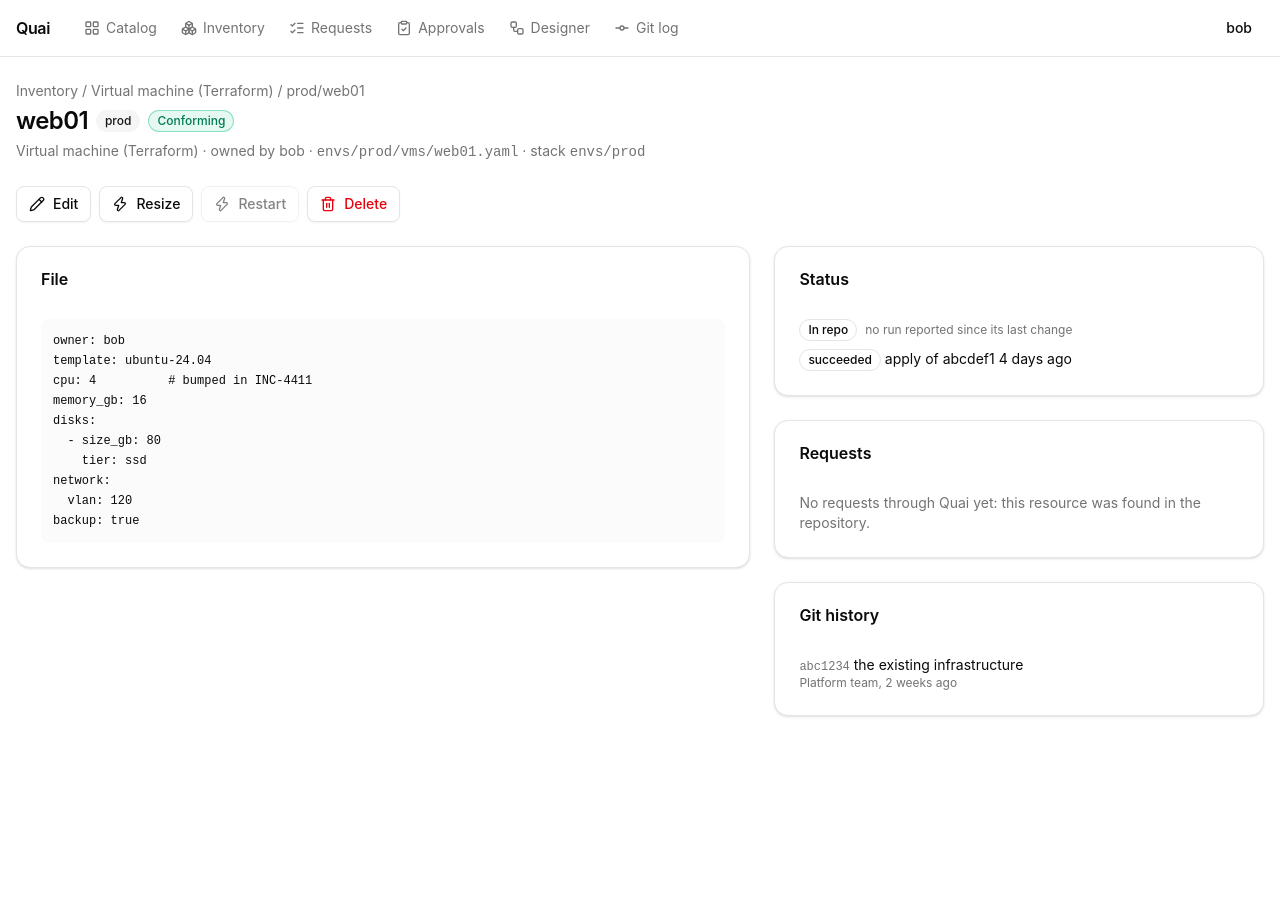
Test case: the edit form of a type whose form is not its file starts from the values read back
The image size is (1280, 900).
Click the button "Edit".
click(54, 204)  # box [16,186,91,222]
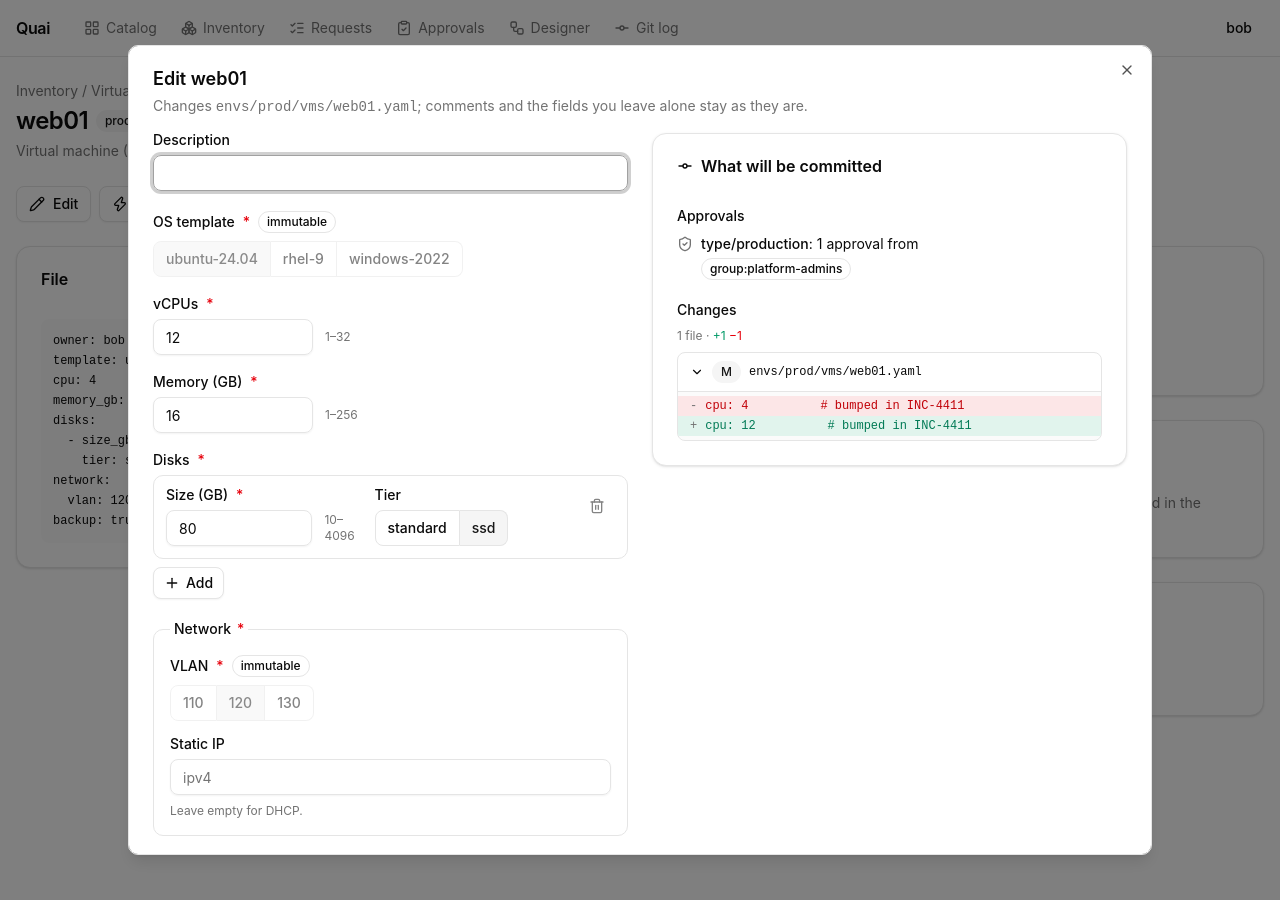
expect the number field labelled "vCPUs *" holds "12": met, box [153,319,313,355]
